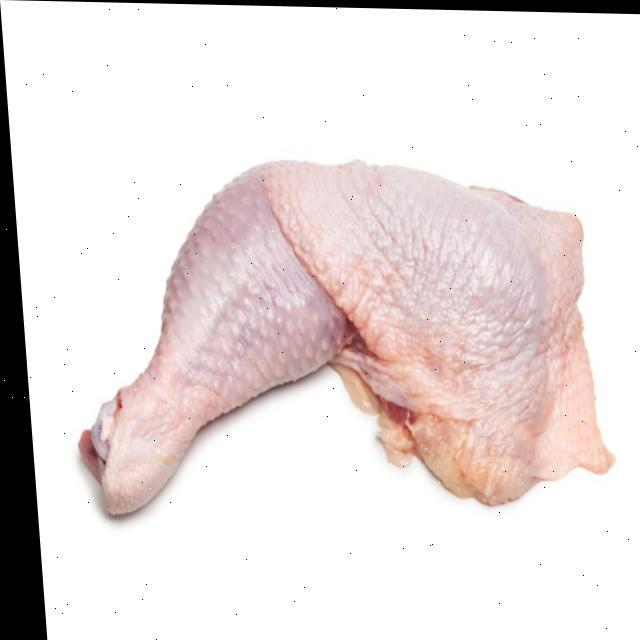quater: (15, 86, 630, 546)
